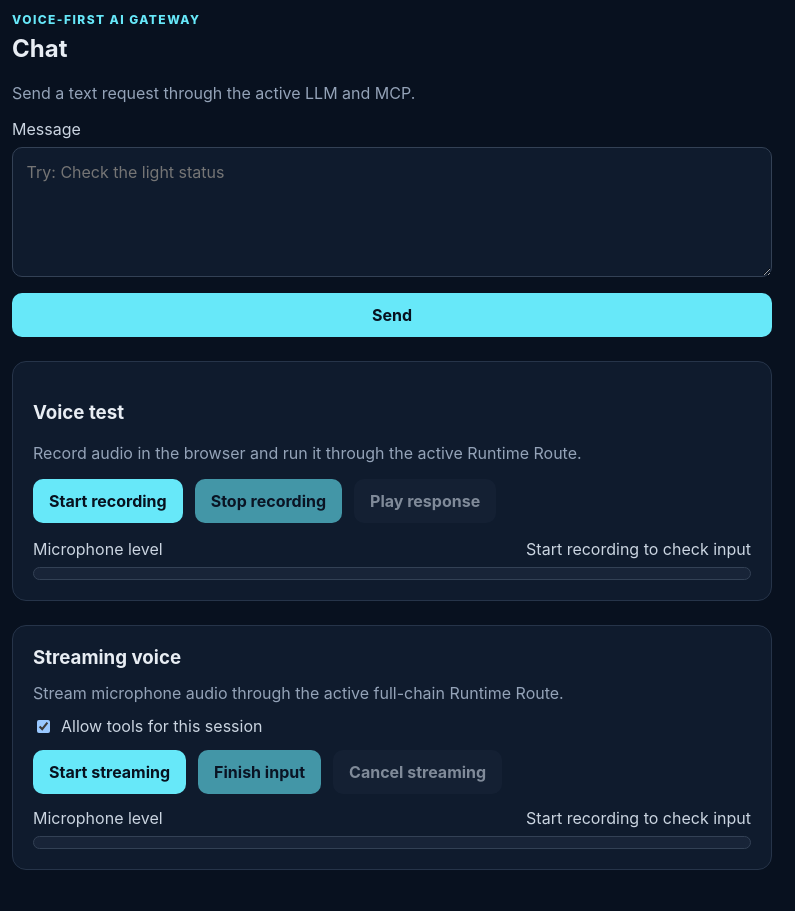
Scenario: feature pages › submits chat and renders tool-assisted output
Type "Check the light" into the text box labelled "Message" at (392, 212), box [12, 147, 772, 277]
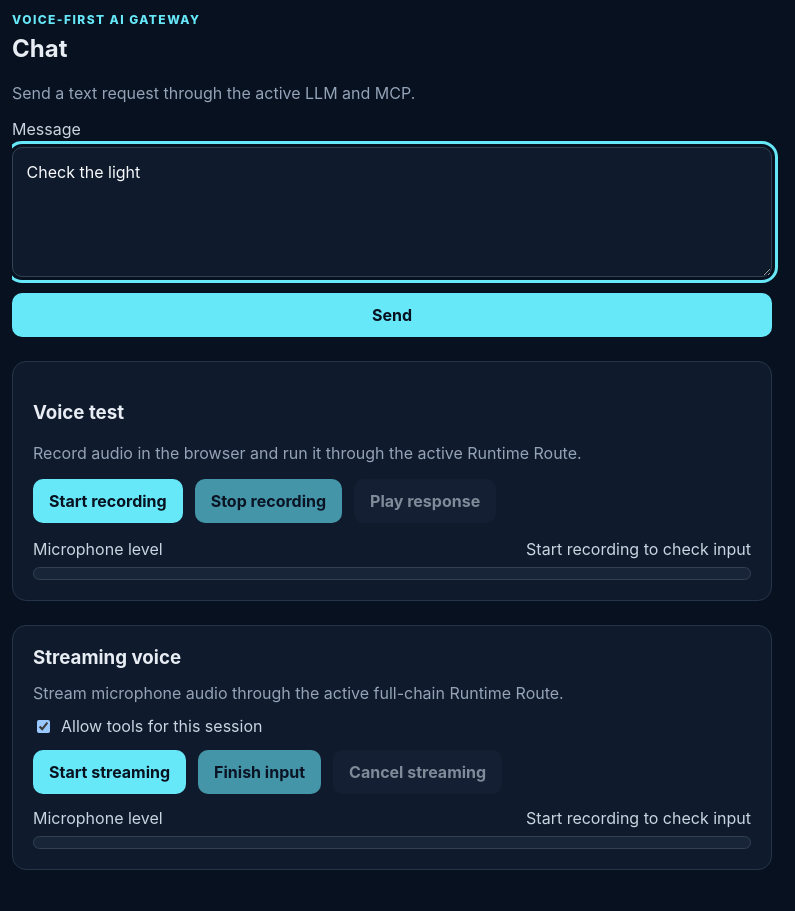
Click the button "Send" at (392, 315), box [12, 293, 772, 337]
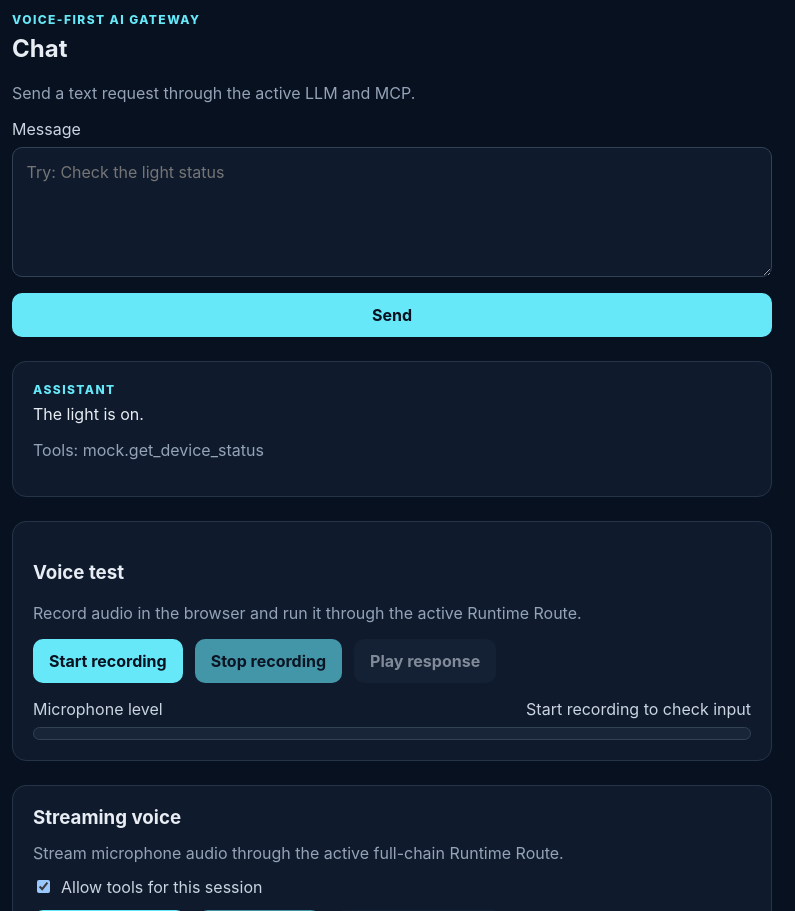
expect the text "The light is on." is shown: met, box [33, 404, 144, 424]
expect the text "Tools: mock.get_device_status" is shown: met, box [33, 440, 264, 460]
